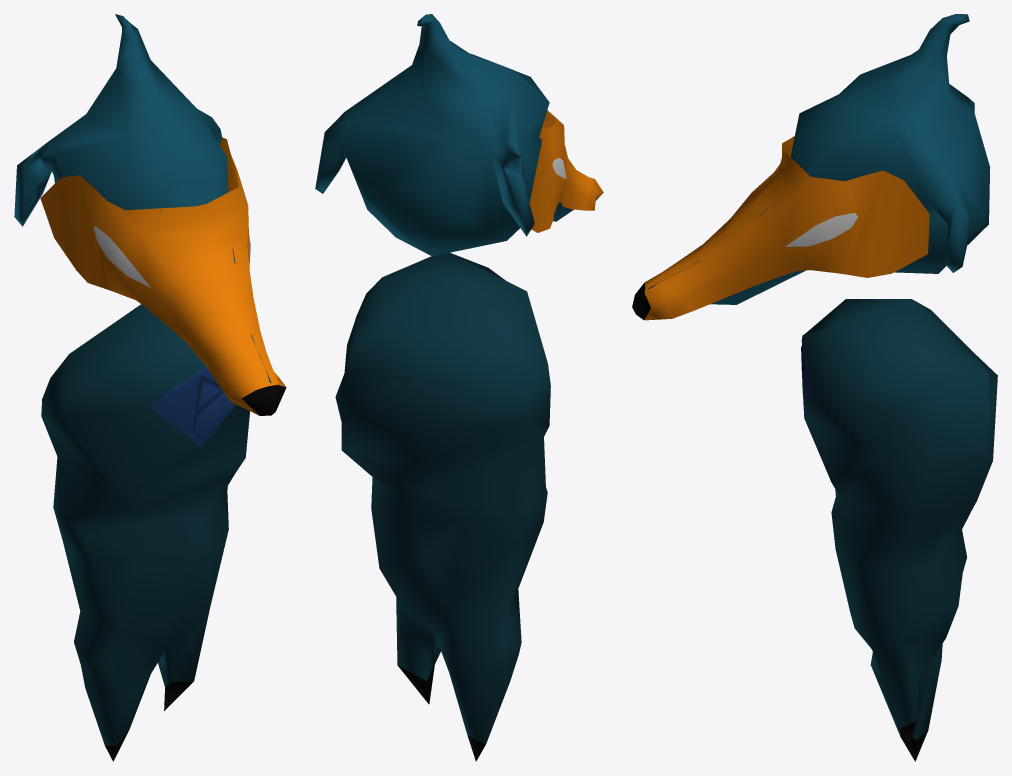
Rendered from Ghost_Venn_2.0.fbx.
3 views of the same model, side by side, from view 1: azimuth 30°, elevation 25°; view 2: azimuth 150°, elevation 25°; view 3: azimuth 270°, elevation 25° (orthographic). The views are drawn at different scales.
Parts seen in each view (by area): view 1: Rock, Mask, Body; view 2: Rock, Body, Mask; view 3: Rock, Body, Mask.
Boxes of the visible parts, bbox=[...] form: Rock: bbox=[41, 304, 249, 761]; Mask: bbox=[40, 137, 286, 415]; Body: bbox=[14, 14, 271, 382]; Rock: bbox=[335, 252, 550, 761]; Body: bbox=[315, 14, 573, 256]; Mask: bbox=[529, 110, 603, 232]; Rock: bbox=[801, 299, 997, 761]; Body: bbox=[648, 14, 990, 304]; Mask: bbox=[632, 136, 929, 320].
Size of the model in its own units: 88.54 by 298 by 130.
